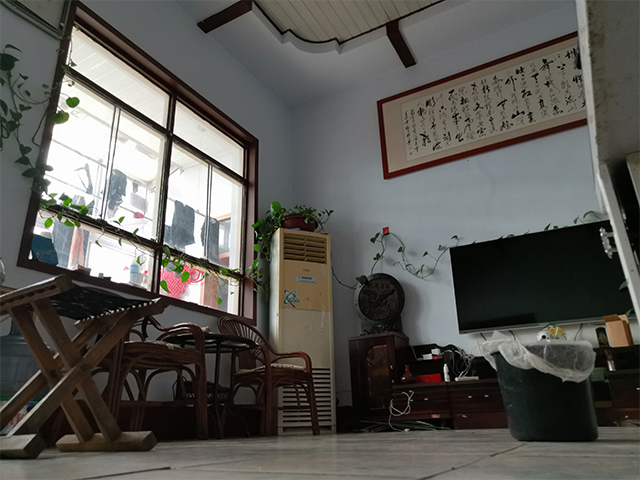stool: (1, 270, 171, 460), (94, 309, 209, 443), (218, 315, 323, 437)
table: (165, 333, 258, 440)
trashcan: (488, 338, 600, 444)
wire: (387, 388, 416, 434)
